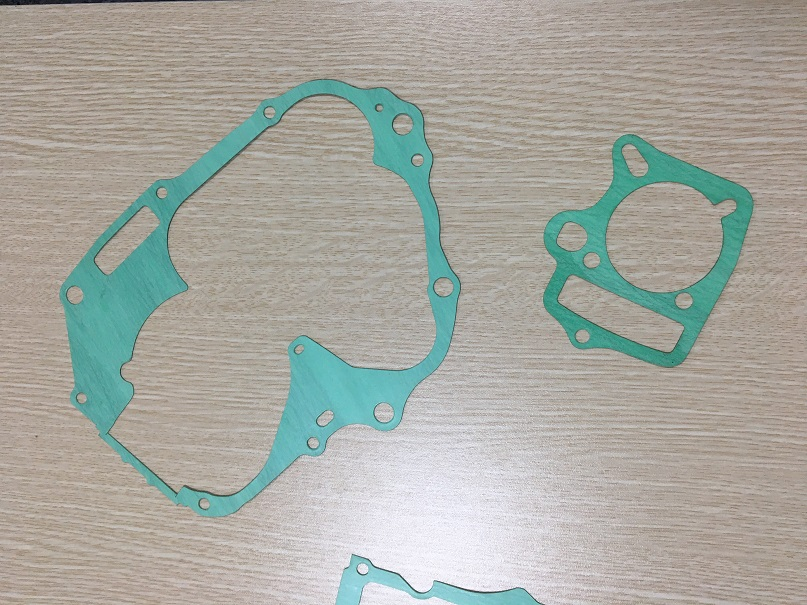type3: (36, 67, 472, 533)
type4: (530, 128, 758, 373)
